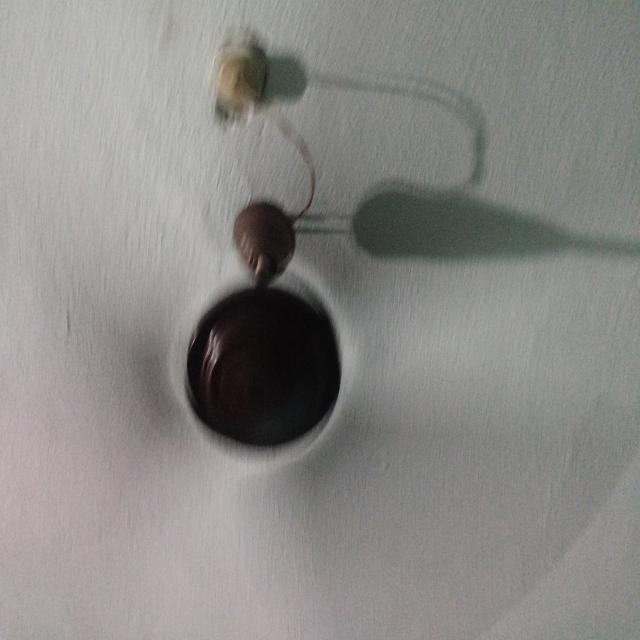fan_on: (2, 0, 638, 640)
